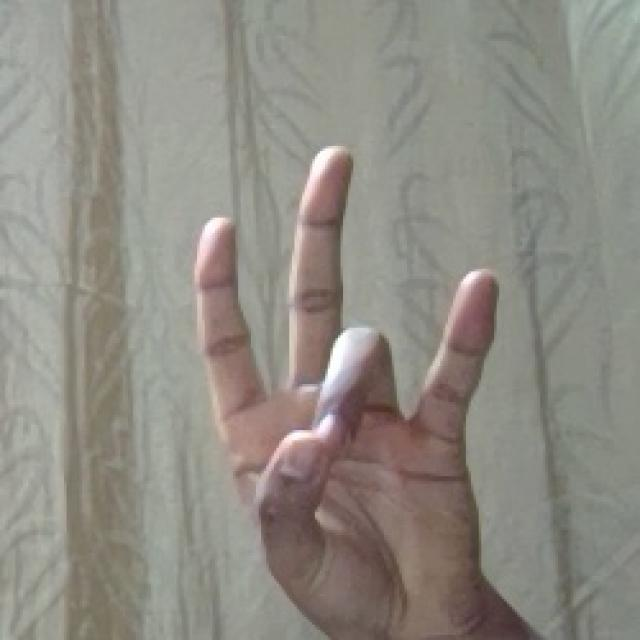Numeric-7: (182, 130, 502, 640)
